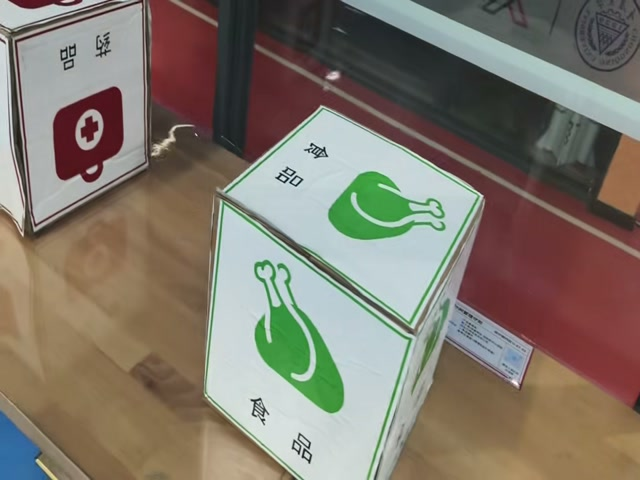Cube_food: (217, 101, 486, 338)
Cube_medicine: (0, 0, 148, 42)
